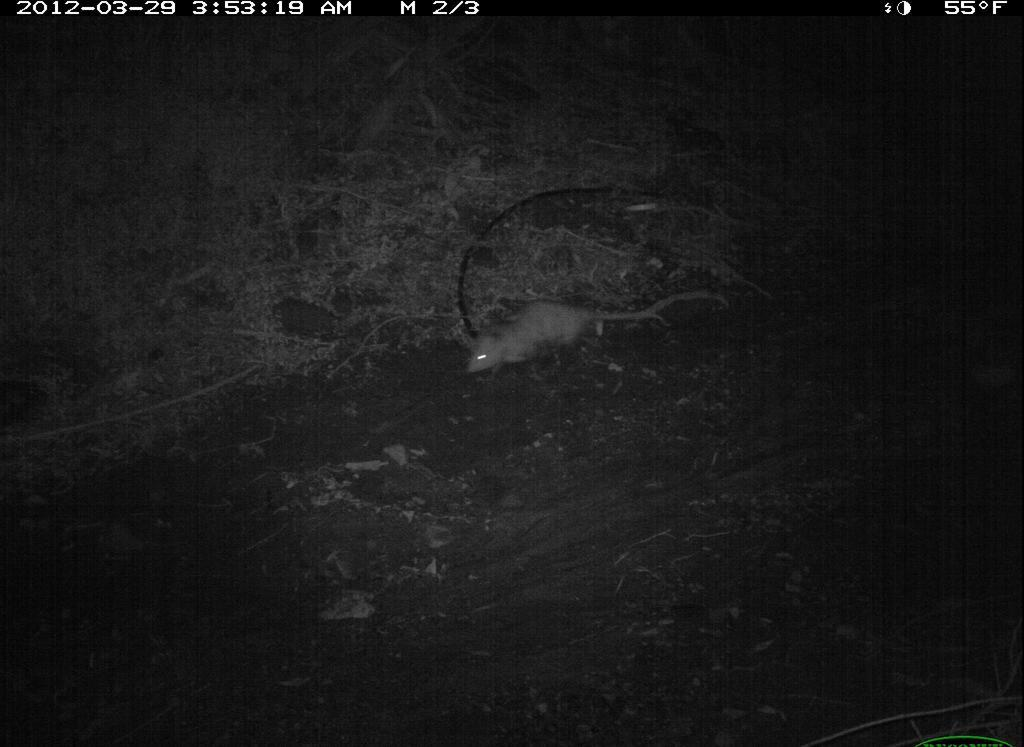opossum: (456, 278, 734, 381)
